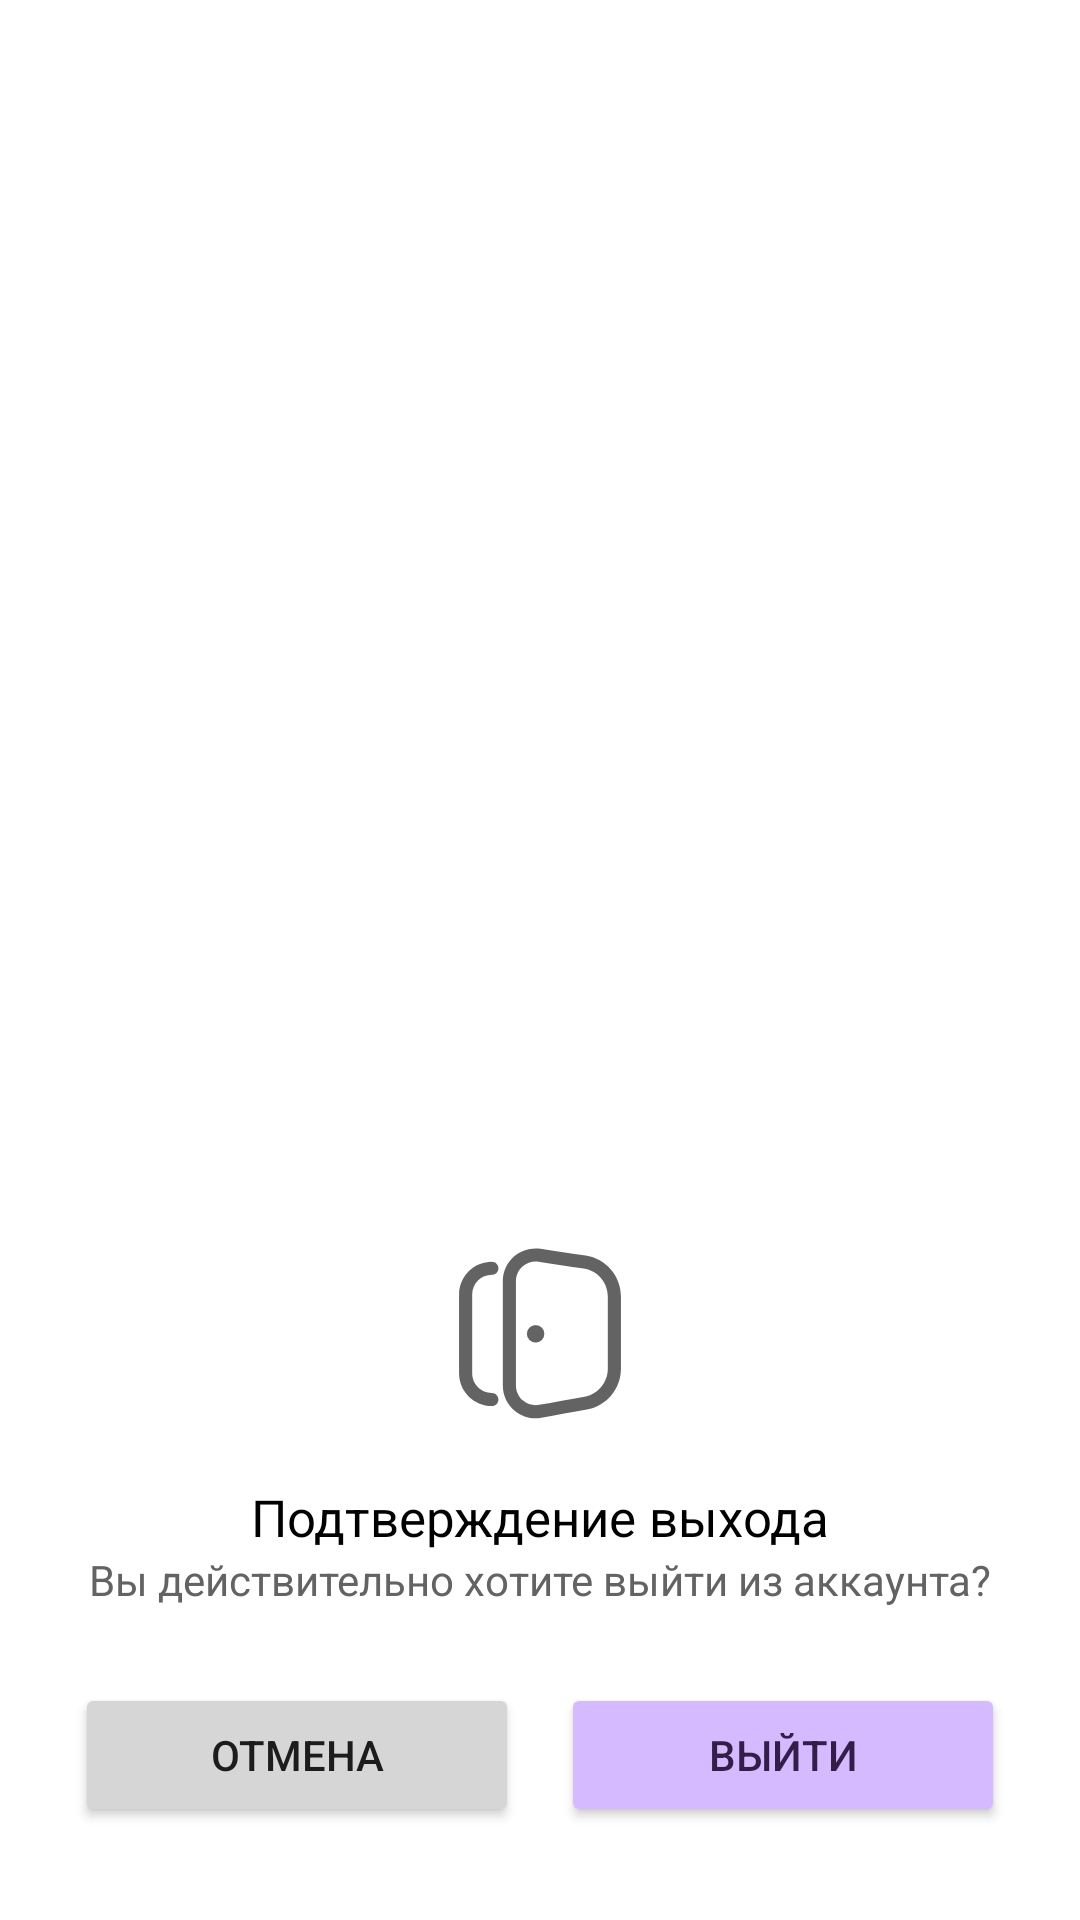

Screen size 1080*1920. Icon name, then its box in pixels as (x1, y1, x2, y2):
door exit: (459, 1248, 621, 1419)
